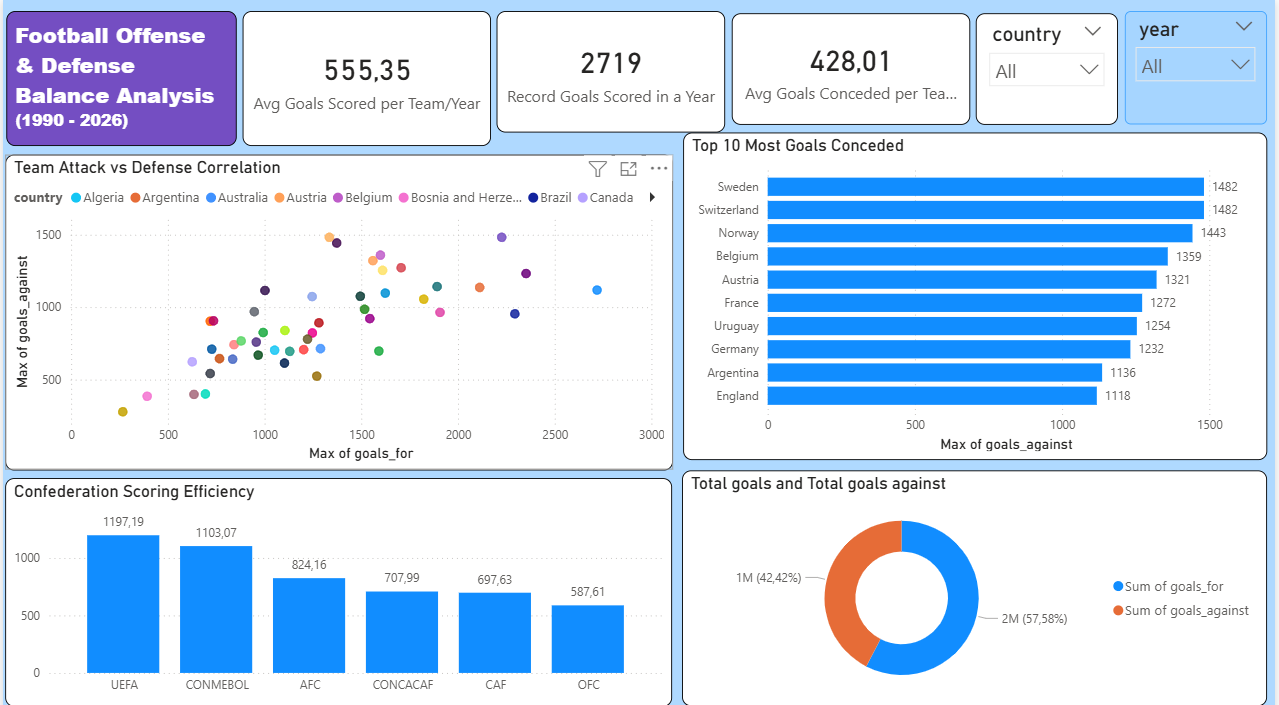

The page's visual inventory and layout, read from the dashboard file:
{"tool":"powerbi","page":{"name":"Offense and Defense Analysis","canvas":[1280,720],"ordinal":2},"visuals":[{"type":"card","fields":{"Values":["Avg(elo_ratings_wc2026.goals_for)"]},"box":[241.1,11.1,250,135.6],"z":0},{"type":"card","fields":{"Values":["Max(elo_ratings_wc2026.goals_for)"]},"box":[496.7,11.1,230,122.2],"z":1000},{"type":"card","fields":{"Values":["Avg(elo_ratings_wc2026.goals_against)"]},"box":[733.1,13.1,240,112.3],"z":2000},{"type":"slicer","title":"Cross-country filter","fields":{"Values":["elo_ratings_wc2026.country"]},"box":[978.5,13.1,143.1,112.3],"z":3000},{"type":"slicer","title":"YEAR","fields":{"Values":["elo_ratings_wc2026.year"]},"box":[1129.2,10.8,143.3,114.2],"z":4000},{"type":"scatterChart","title":"Team Attack vs Defense Correlation","fields":{"X":["Max(elo_ratings_wc2026.goals_for)"],"Y":["Max(elo_ratings_wc2026.goals_against)"],"Series":["elo_ratings_wc2026.country"]},"box":[2.2,155.6,672.2,317.8],"z":5000},{"type":"clusteredBarChart","title":"Top 10 Most Goals Conceded","fields":{"Category":["elo_ratings_wc2026.country"],"Y":["Max(elo_ratings_wc2026.goals_against)"]},"box":[684.4,133.3,587.8,330],"z":6000},{"type":"clusteredColumnChart","title":"Confederation Scoring Efficiency","fields":{"Category":["elo_ratings_wc2026.confederation"],"Y":["Avg(elo_ratings_wc2026.goals_for)"]},"box":[2.2,481.1,671.1,230],"z":7000},{"type":"donutChart","title":"Total goals  and Total goals against","fields":{"Y":["Sum(elo_ratings_wc2026.goals_for)","Sum(elo_ratings_wc2026.goals_against)"]},"box":[683.8,473.8,588.8,237.5],"z":8000},{"type":"textbox","box":[3.3,11.1,232.2,135.6],"z":9000}]}

Visuals, with their boxes in screenshot pixels (x1, y1, x2, y2), scaled from the page's 1280x720 canvas onto the 1279x705 screenshot:
card - Avg(elo_ratings_wc2026.goals_for): (left=241, top=11, right=491, bottom=144)
card - Max(elo_ratings_wc2026.goals_for): (left=496, top=11, right=726, bottom=131)
card - Avg(elo_ratings_wc2026.goals_against): (left=733, top=13, right=972, bottom=123)
"Cross-country filter" slicer: (left=978, top=13, right=1121, bottom=123)
"YEAR" slicer: (left=1128, top=11, right=1272, bottom=122)
"Team Attack vs Defense Correlation" scatterChart: (left=2, top=152, right=674, bottom=464)
"Top 10 Most Goals Conceded" clusteredBarChart: (left=684, top=131, right=1271, bottom=454)
"Confederation Scoring Efficiency" clusteredColumnChart: (left=2, top=471, right=673, bottom=696)
"Total goals  and Total goals against" donutChart: (left=683, top=464, right=1272, bottom=696)
textbox: (left=3, top=11, right=235, bottom=144)
